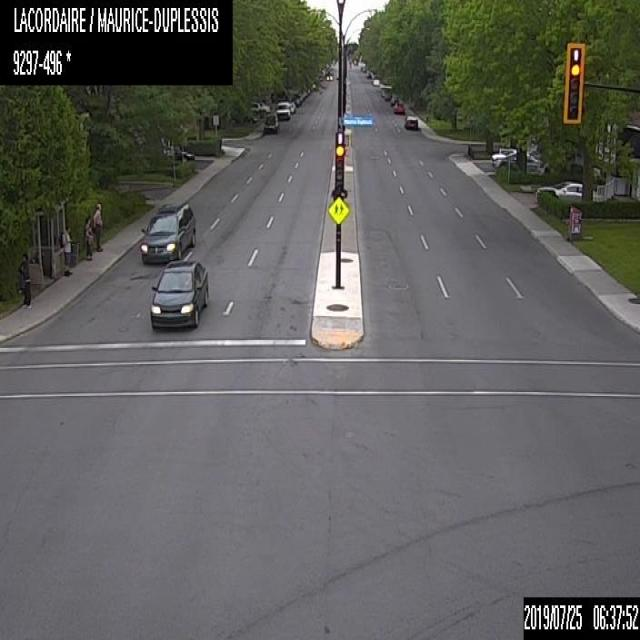pedestrian: (14, 251, 34, 312), (57, 222, 73, 274), (92, 201, 104, 250), (83, 211, 93, 260)
vehicle: (150, 259, 209, 328), (140, 203, 194, 262), (534, 179, 602, 206), (492, 153, 544, 170), (491, 148, 538, 165), (172, 145, 194, 162), (261, 112, 278, 134), (276, 100, 290, 118), (404, 112, 417, 130), (392, 101, 405, 113), (257, 101, 270, 112), (250, 100, 260, 112), (370, 76, 380, 86), (390, 95, 400, 105), (246, 113, 256, 122), (288, 101, 295, 113), (380, 86, 388, 96), (384, 90, 392, 100), (326, 71, 332, 80)
